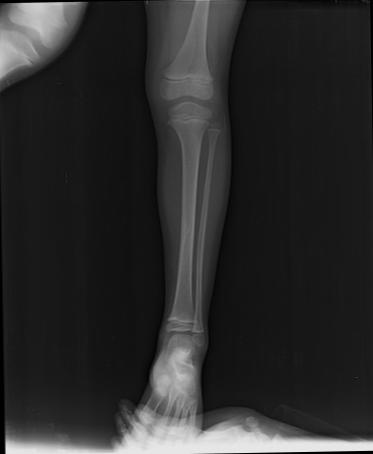fractured: (177, 213, 194, 255)
